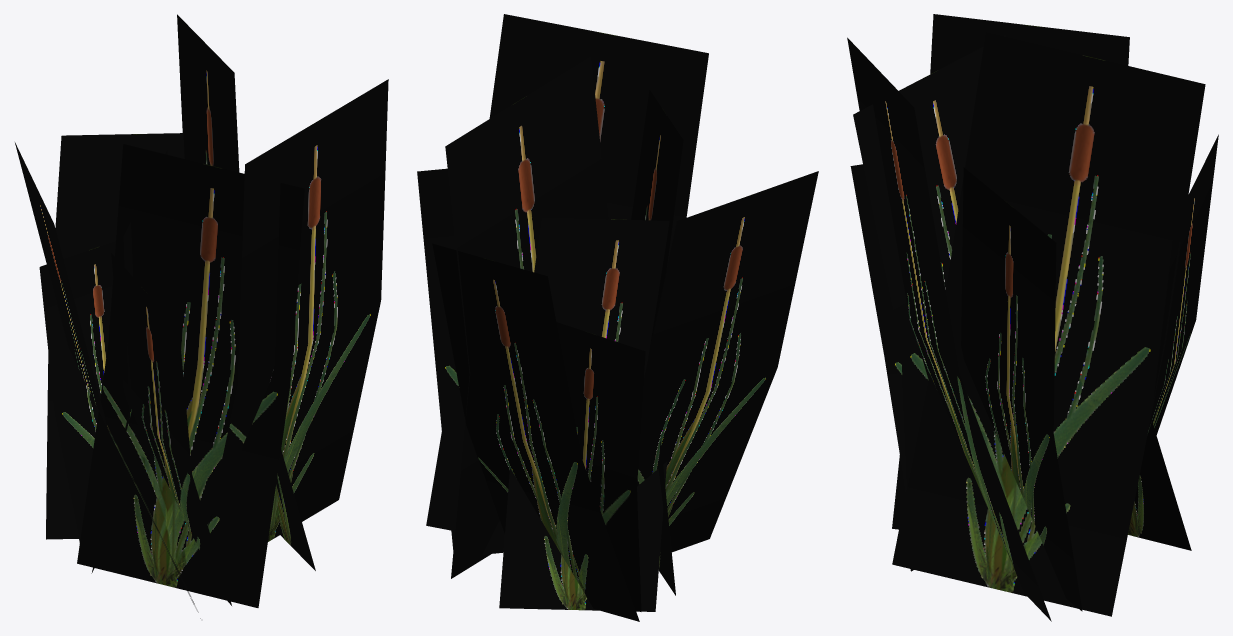
Rendered from cattail.glb.
3 renders of one model, left to right at view 1: azimuth 30°, elevation 25°; view 2: azimuth 150°, elevation 25°; view 3: azimuth 270°, elevation 25°, orthographic. The views are drawn at different scales.
Parts seen in each view (by area): view 1: stktex_cattail_diff_a.png__; view 2: stktex_cattail_diff_a.png__; view 3: stktex_cattail_diff_a.png__.
Part boxes in pixels (x1,y1,x2,y2): stktex_cattail_diff_a.png__: (15,14,388,618); stktex_cattail_diff_a.png__: (417,14,818,621); stktex_cattail_diff_a.png__: (847,14,1218,621).
Bounding box in the file's own units: 5.26 × 7.34 × 4.54.
1 material, 1 textured.
